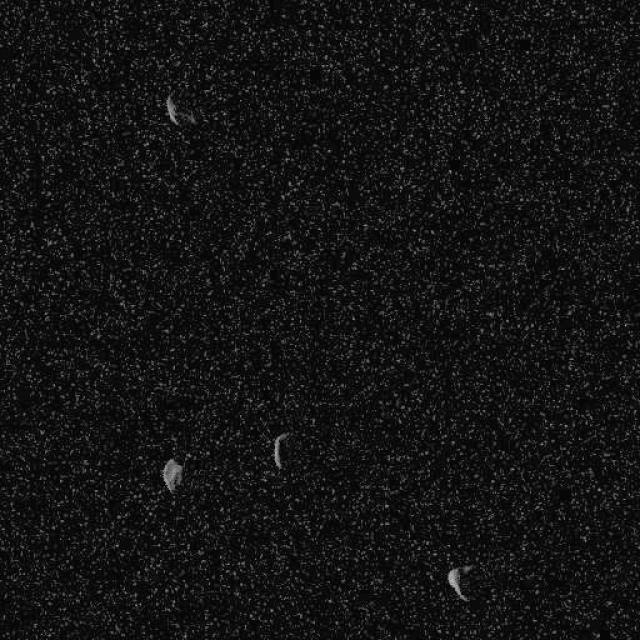D2: (164, 90, 198, 128), (446, 564, 474, 602), (160, 457, 184, 492), (271, 430, 289, 469)
